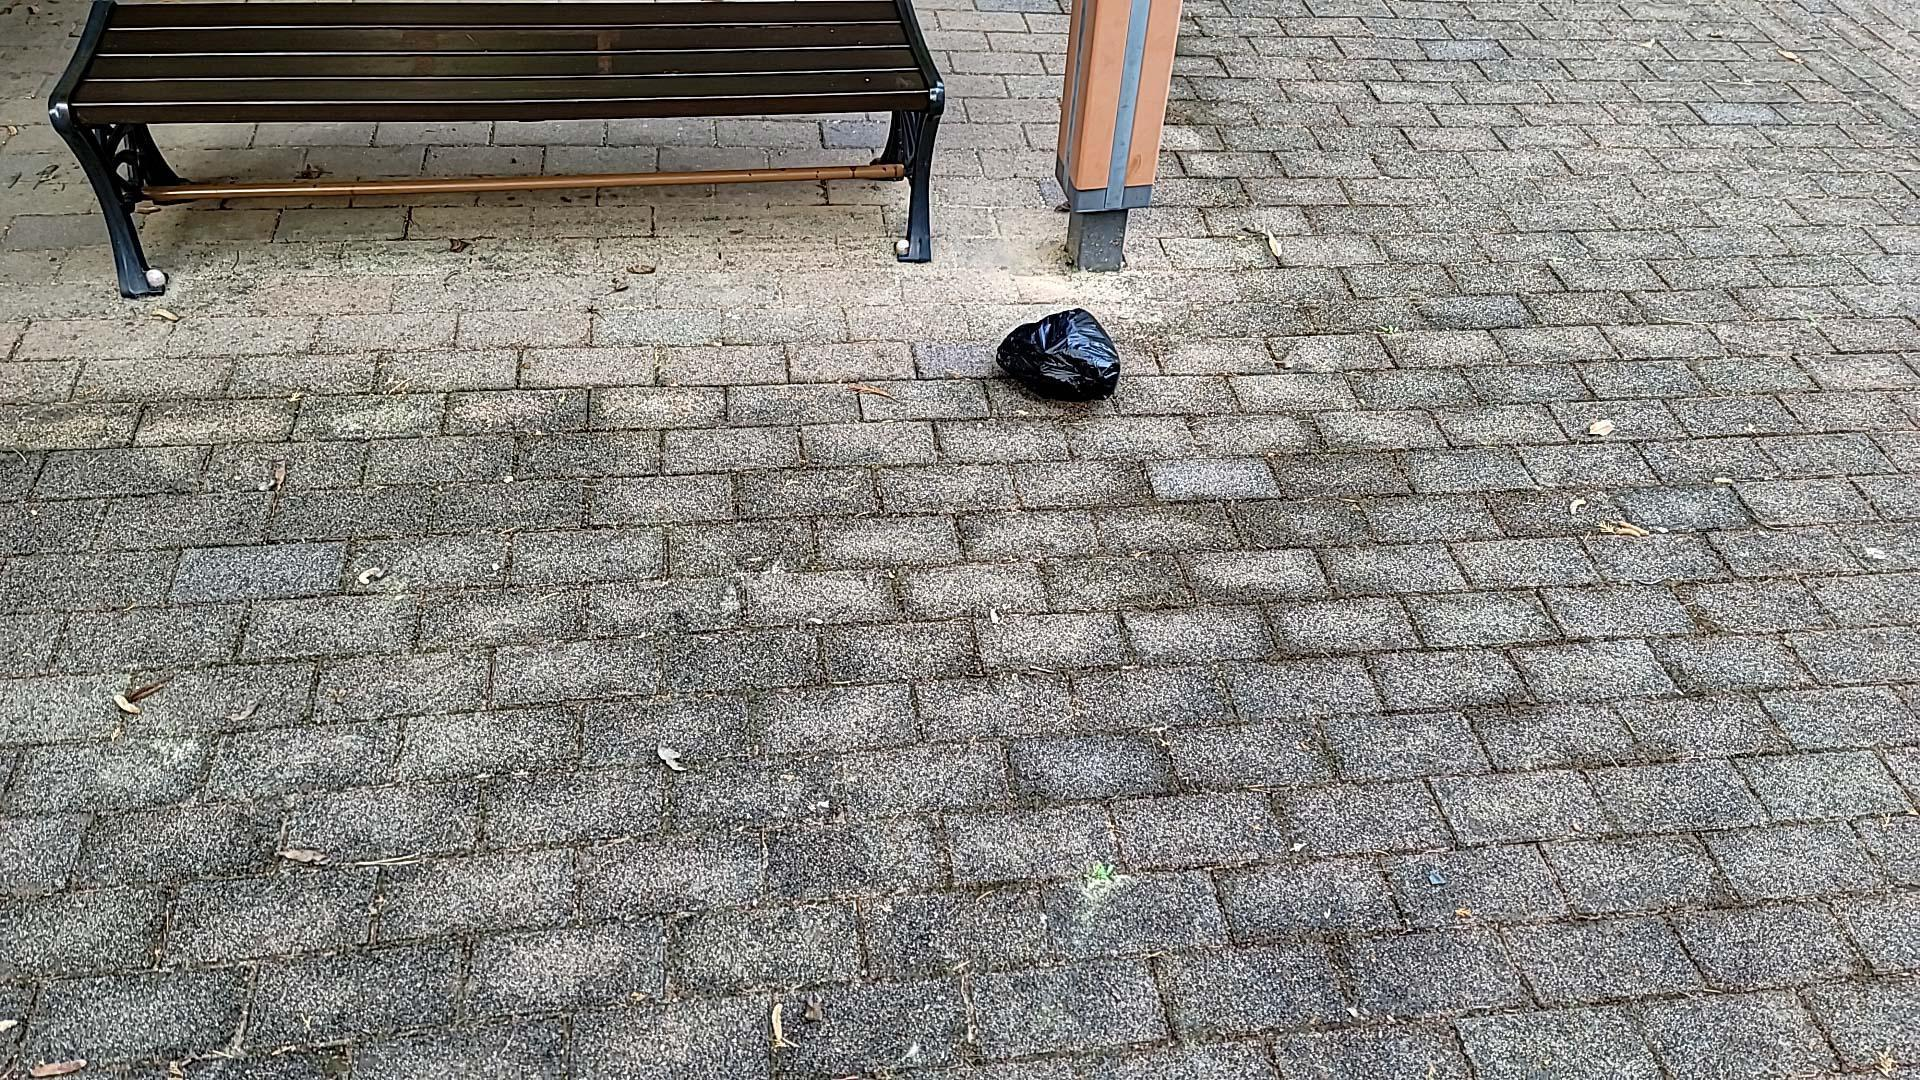black_bag: (986, 302, 1125, 411)
